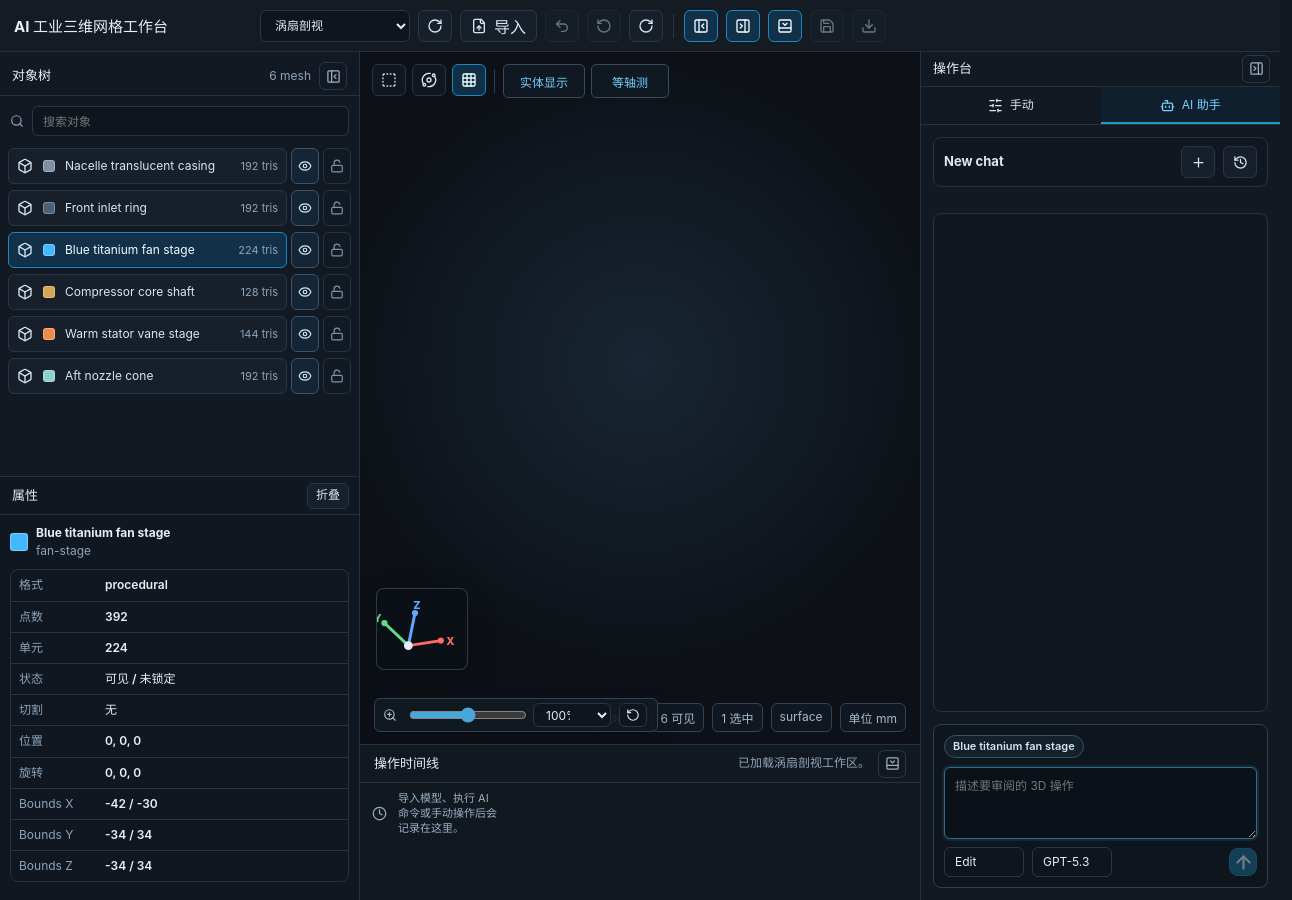
Test case: App agent draft previews › shows selected object properties in a collapsible resizable left stack
Expected: the text "Blue titanium fan stage" below "属性" is shown, [36,525,170,540]
Press the mouse on the element named "调整属性面板高度" at (180, 477), box [0,473,359,481]
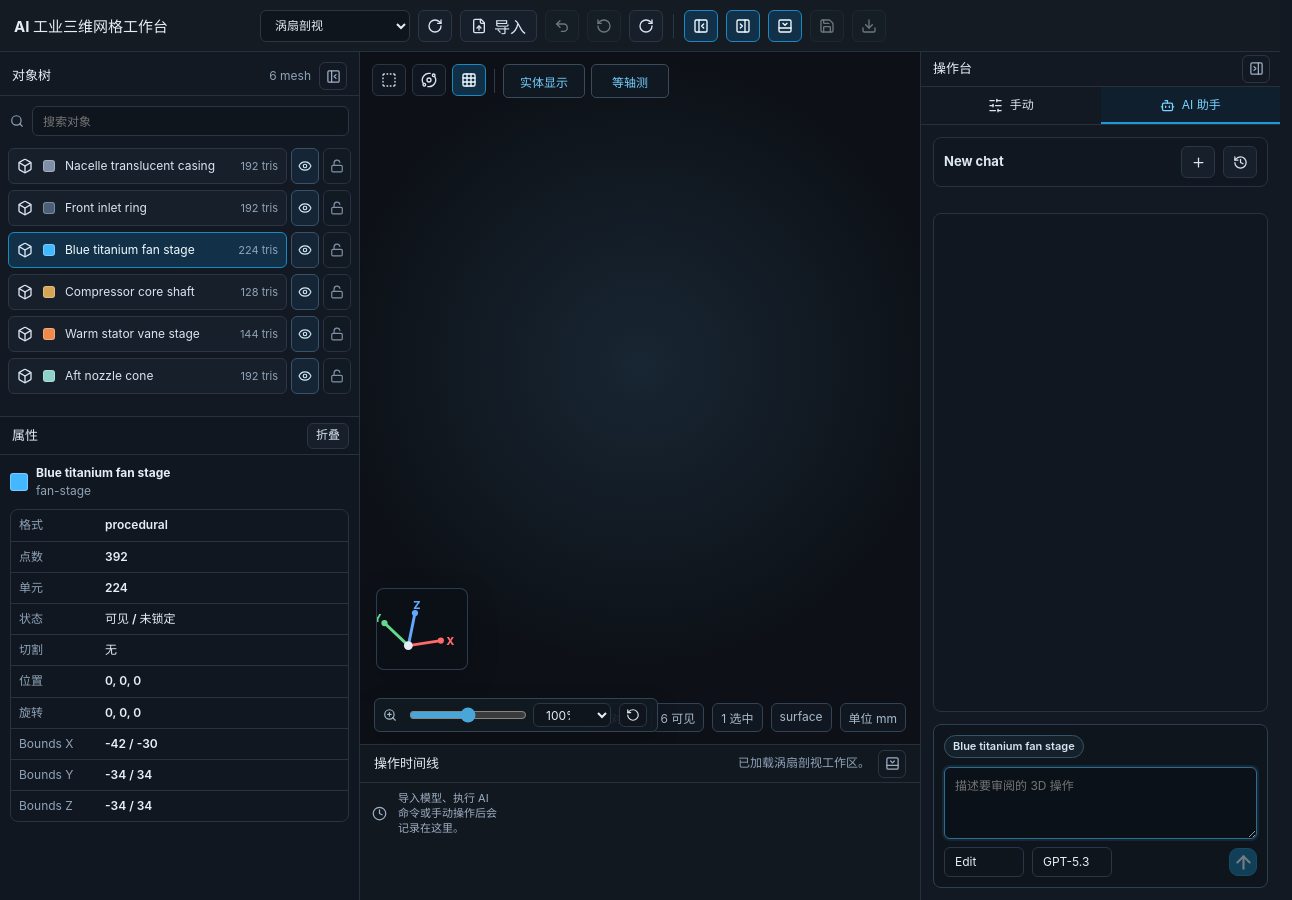
Click the button with aria-label "折叠属性面板".
click(328, 436)  # box [307,422,349,448]
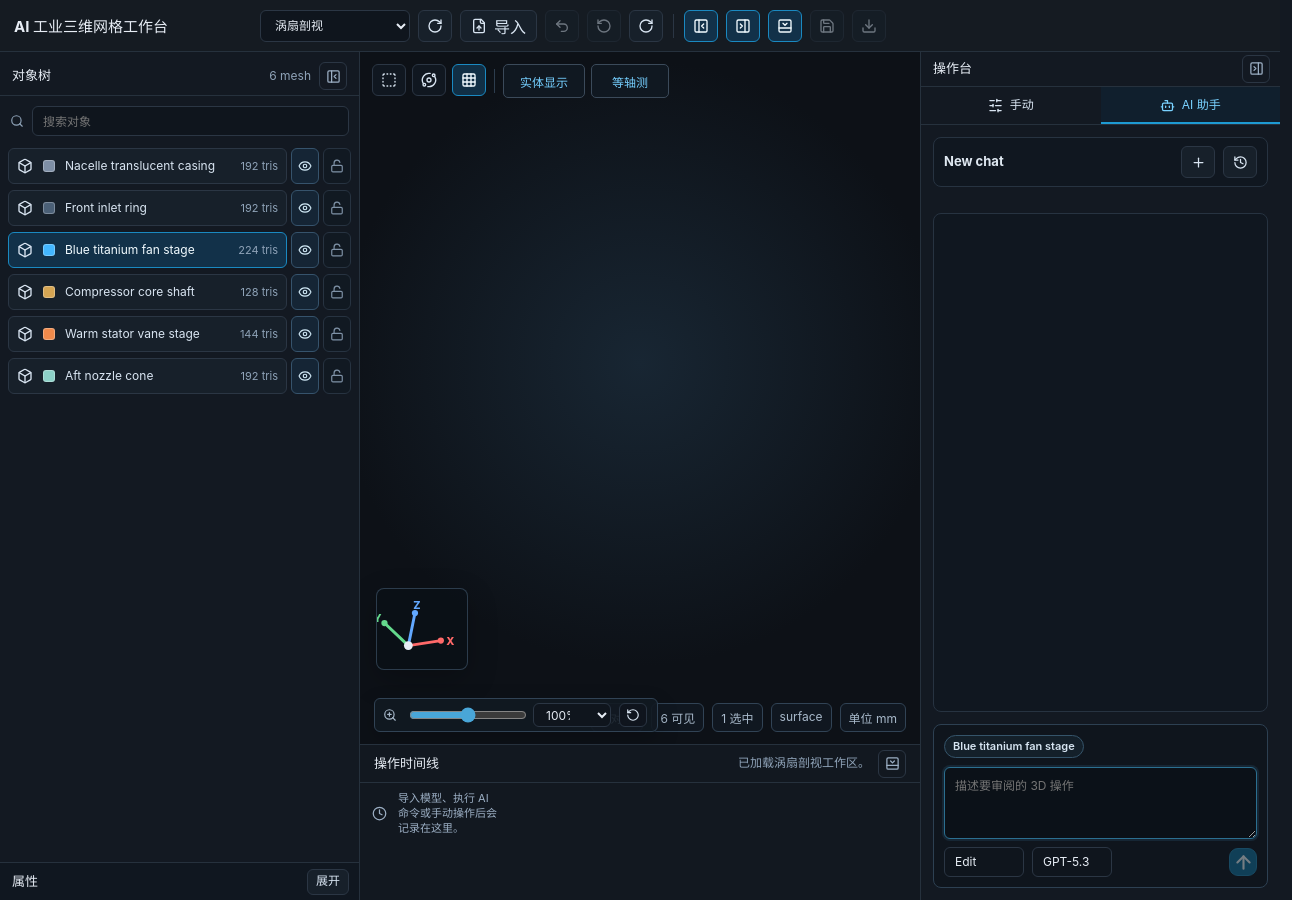
Expected: the element "选中对象属性" is gone
Expected: the button with aria-label "展开属性面板" is shown, [307,868,349,894]
